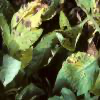Tomato Septoria leaf spot: (5, 1, 47, 59), (53, 49, 99, 95), (53, 15, 88, 53)
